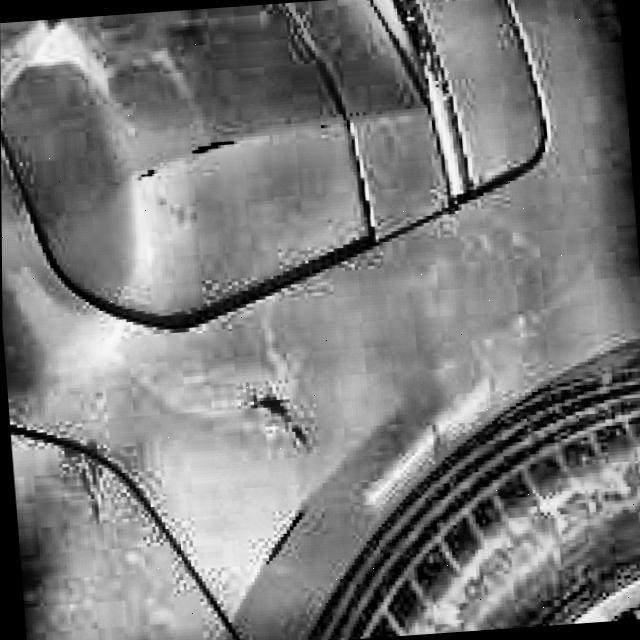bumper_scratch: (122, 114, 243, 194), (46, 414, 125, 525), (234, 368, 323, 463)
